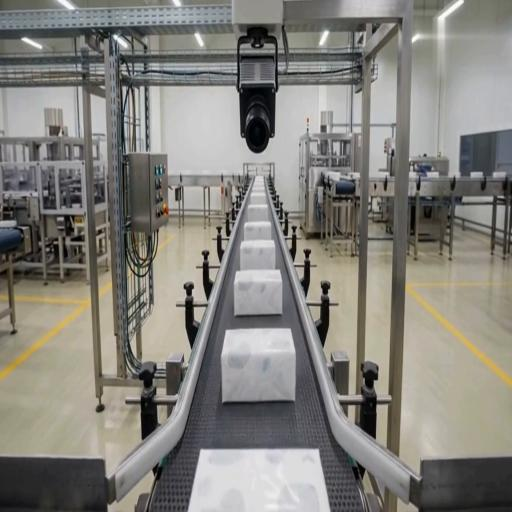good: (189, 449, 329, 511), (222, 329, 295, 402), (234, 270, 282, 316), (240, 240, 275, 270), (244, 221, 271, 240), (248, 205, 269, 221), (252, 188, 266, 204), (252, 189, 266, 204), (250, 192, 266, 204), (252, 181, 265, 191), (252, 183, 265, 191), (252, 184, 265, 192), (254, 177, 265, 184), (255, 176, 264, 183), (255, 176, 264, 182)
